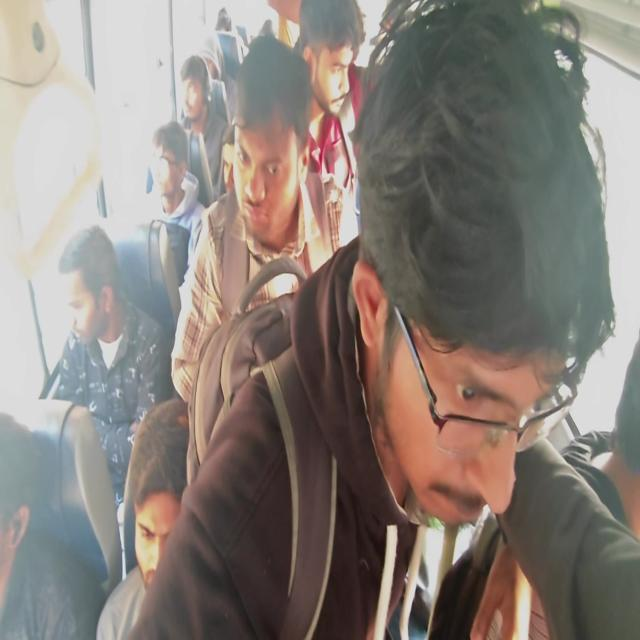person: (403, 105, 548, 536), (246, 78, 327, 256), (131, 440, 190, 572), (64, 237, 118, 376), (0, 393, 43, 546), (310, 9, 368, 109), (152, 124, 198, 222), (180, 64, 209, 118), (221, 138, 246, 190), (198, 32, 224, 69), (263, 9, 289, 45), (218, 14, 232, 41)
